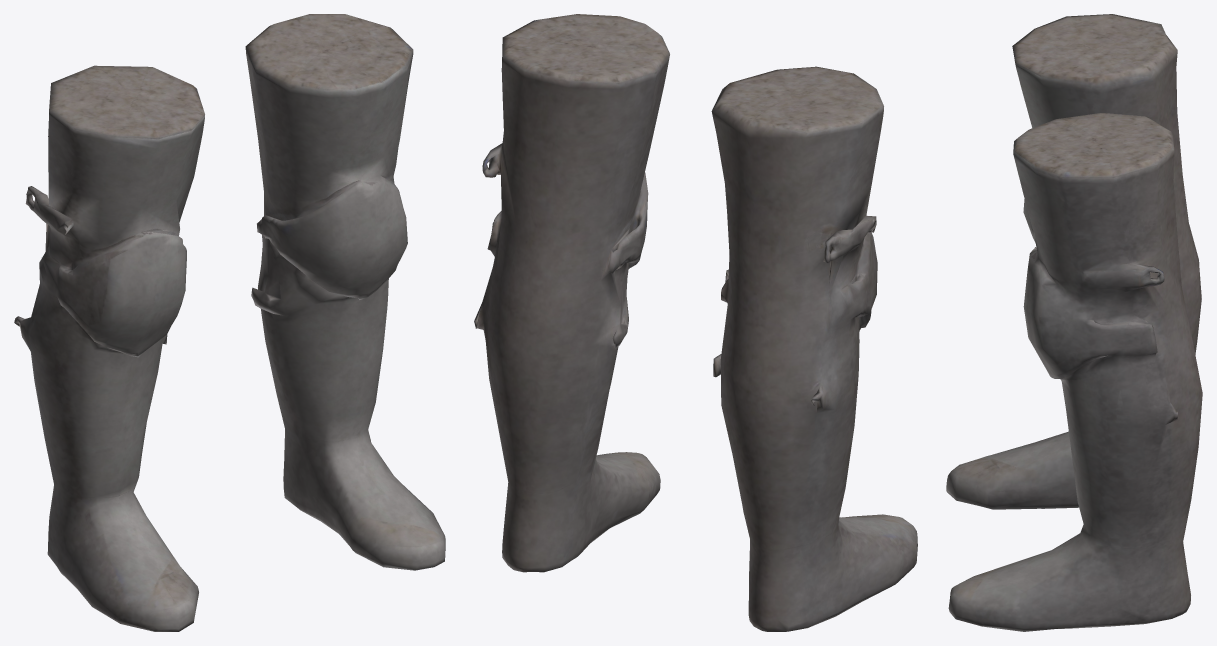
The model's file is legs-leather-base_backup.glb.
3 renders of one model, left to right at view 1: azimuth 30°, elevation 25°; view 2: azimuth 150°, elevation 25°; view 3: azimuth 270°, elevation 25°, orthographic. The views are drawn at different scales.
Parts seen in each view (by area): view 1: file1; view 2: file1; view 3: file1.
Part boxes in pixels (left/top/right/bottom): file1: left=14, top=14, right=445, bottom=631; file1: left=474, top=14, right=917, bottom=631; file1: left=946, top=14, right=1202, bottom=631.
Size of the model in its own units: 1.5 by 2 by 1.
Materials: 1 (1 with a texture image).
